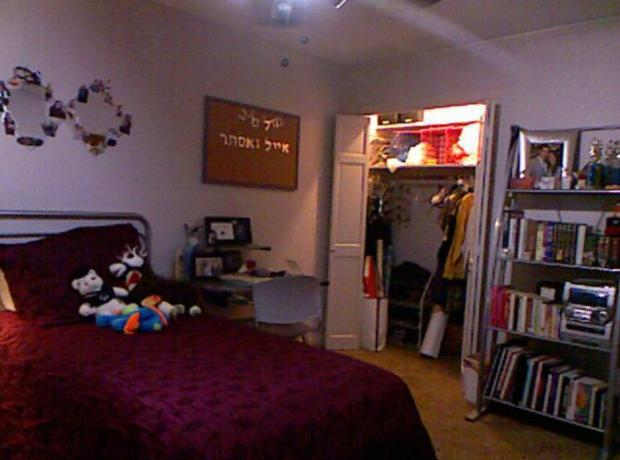Armario: (347, 95, 498, 364)
Bote de Basura: (457, 349, 494, 406)
